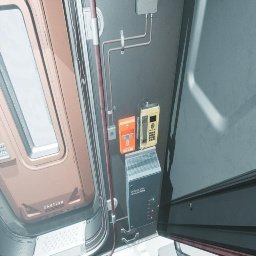EmergencyPhone ,: (136, 98, 160, 150)
FireAlarm ,: (118, 116, 135, 154)
